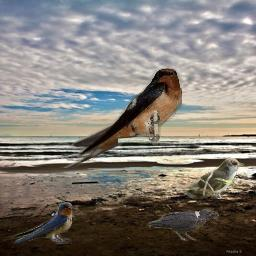Crow: (146, 208, 219, 242)
Cuckoo: (176, 157, 245, 199)
Swallow: (59, 68, 182, 168), (2, 202, 76, 244)
